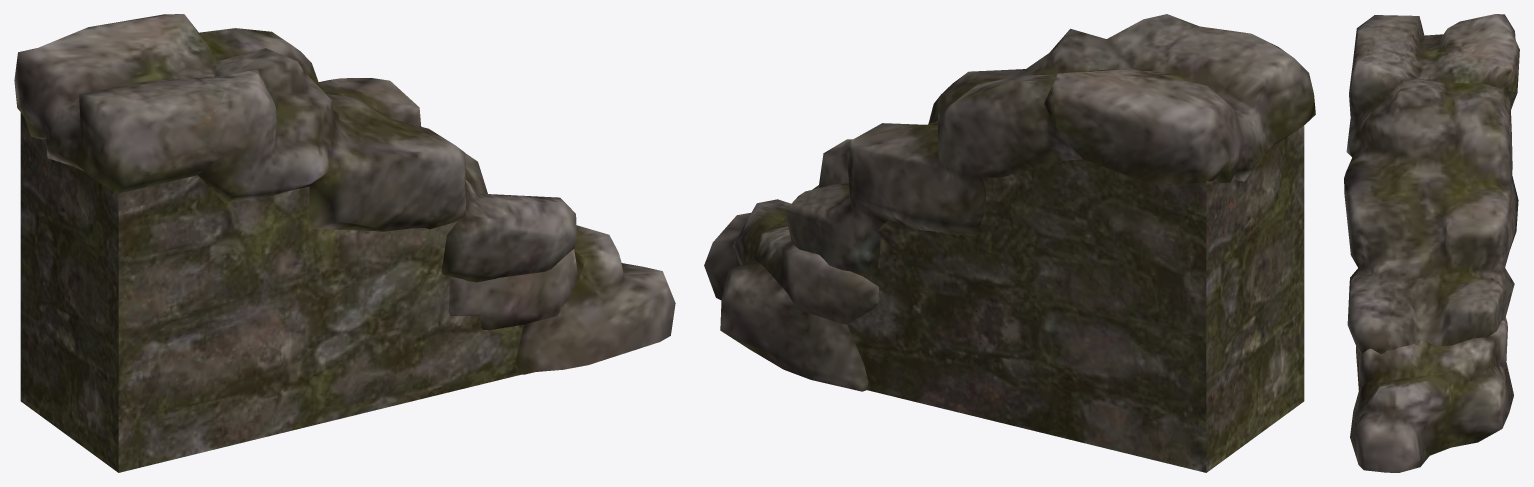
The model's file is jungle_ruin_walls_foundation_b.glb.
3 renders of one model, left to right at view 1: azimuth 30°, elevation 25°; view 2: azimuth 150°, elevation 25°; view 3: azimuth 270°, elevation 25°, orthographic. The views are drawn at different scales.
Parts seen in each view (by area): view 1: jungle_ruin_walls_foundation_b_LOD0; view 2: jungle_ruin_walls_foundation_b_LOD0; view 3: jungle_ruin_walls_foundation_b_LOD0.
Part boxes in pixels (x1=…): jungle_ruin_walls_foundation_b_LOD0: x1=14, y1=14, x2=675, y2=472; jungle_ruin_walls_foundation_b_LOD0: x1=704, y1=14, x2=1315, y2=472; jungle_ruin_walls_foundation_b_LOD0: x1=1344, y1=14, x2=1519, y2=472.
Size of the model in its own units: 1.7 by 1 by 0.6126.
2 materials, 2 textured.
